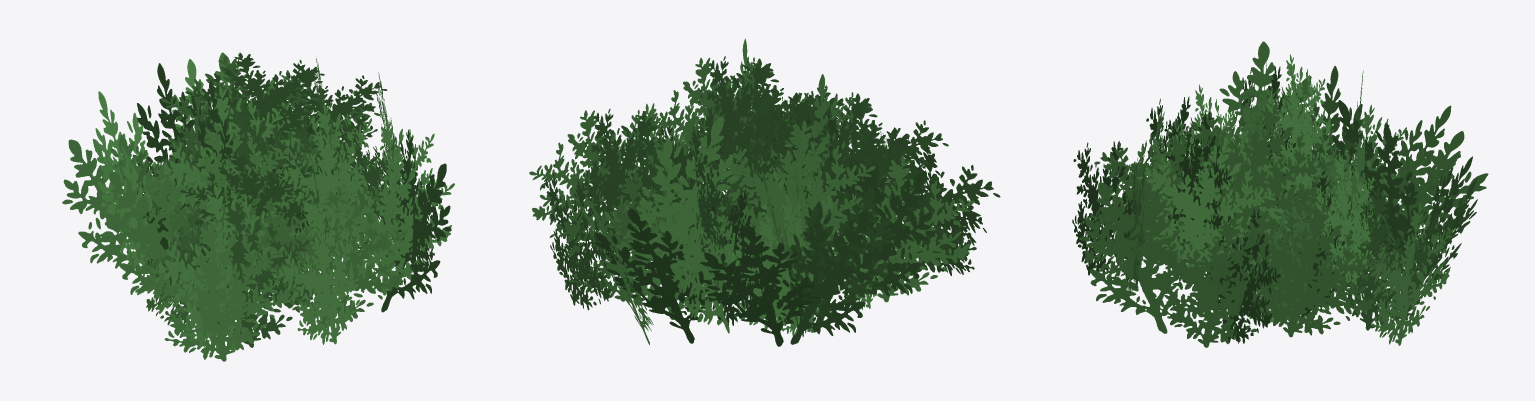
Rendered from Bush.fbx.
The picture shows the model from 3 angles, left to right: view 1: azimuth 30°, elevation 25°; view 2: azimuth 150°, elevation 25°; view 3: azimuth 270°, elevation 25°; orthographic projection. The views are drawn at different scales.
Visible parts, largest first — view 1: Bush; view 2: Bush; view 3: Bush.
Boxes of the visible parts, x1=… form: Bush: x1=62, y1=52, x2=454, y2=361; Bush: x1=529, y1=38, x2=1000, y2=346; Bush: x1=1072, y1=41, x2=1488, y2=347.
Size of the model in its own units: 203 by 137 by 208.
